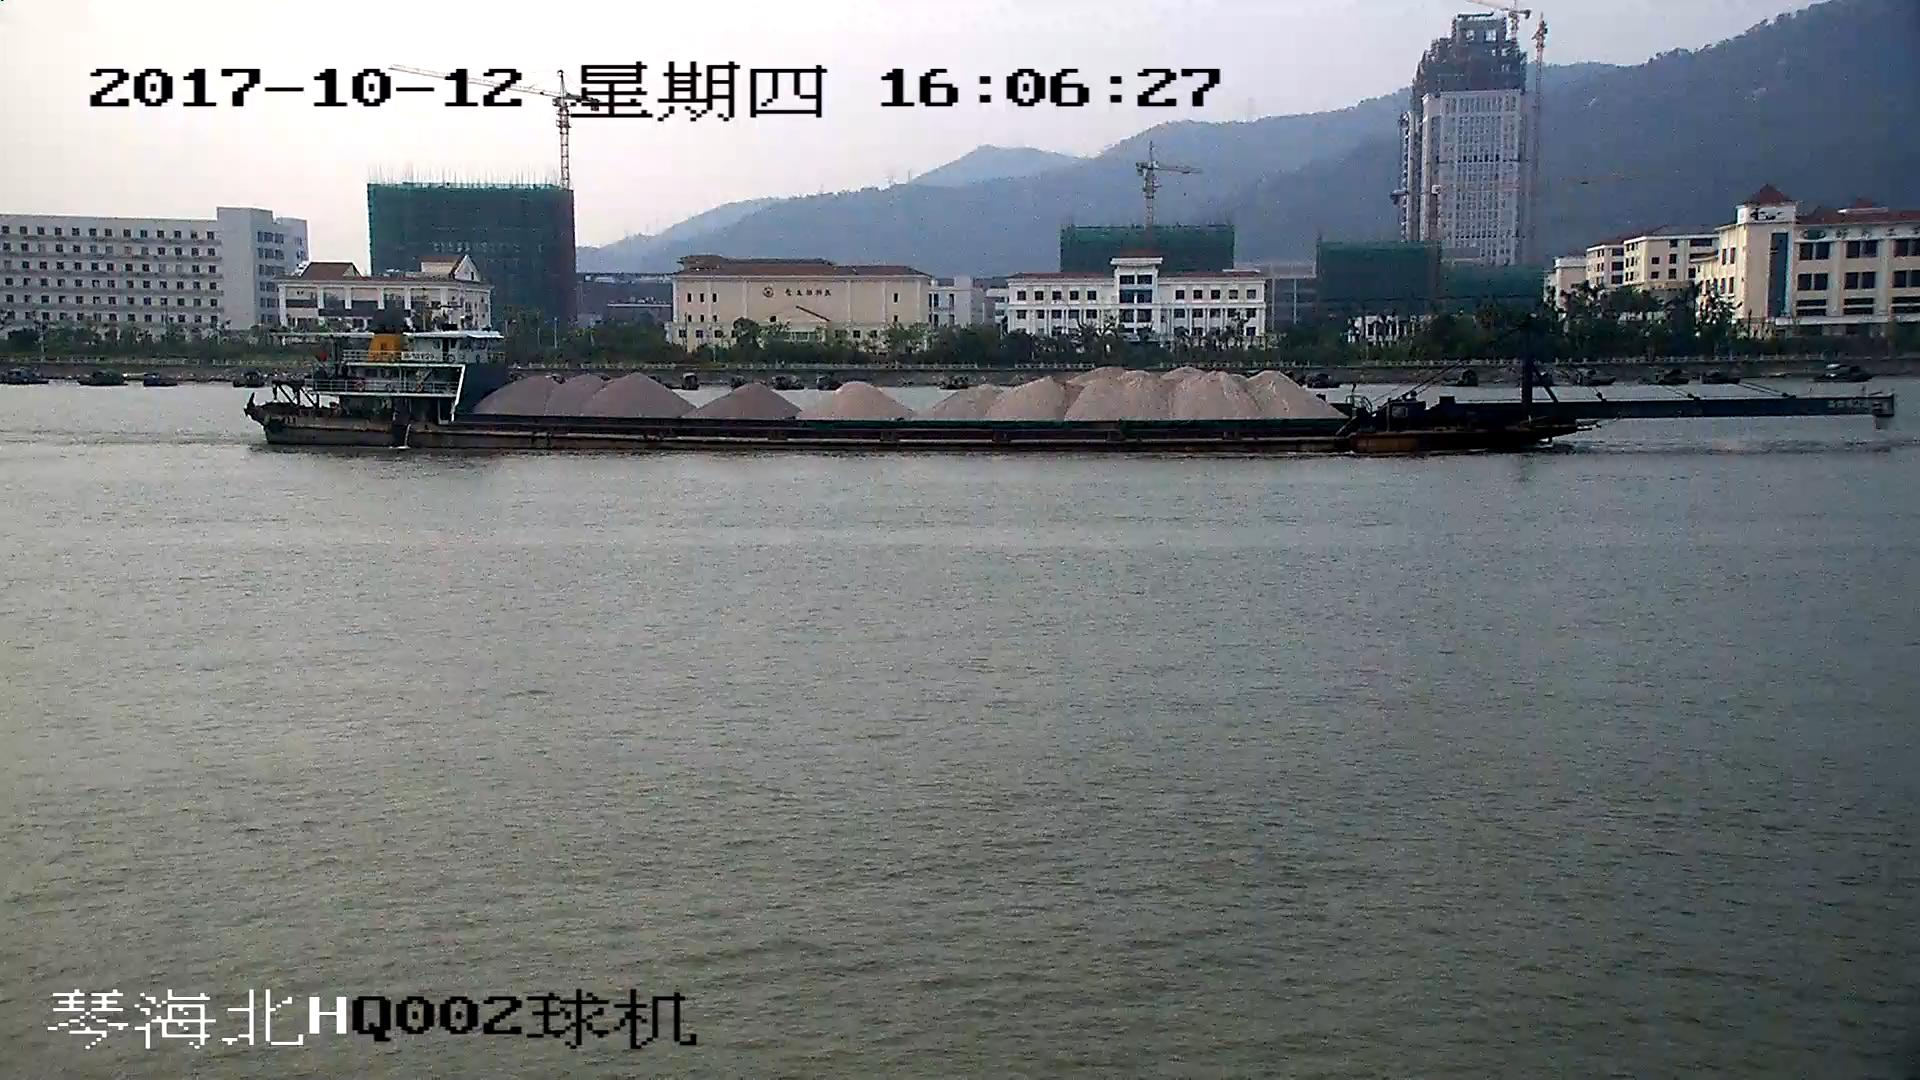ore carrier: (251, 314, 1894, 455)
